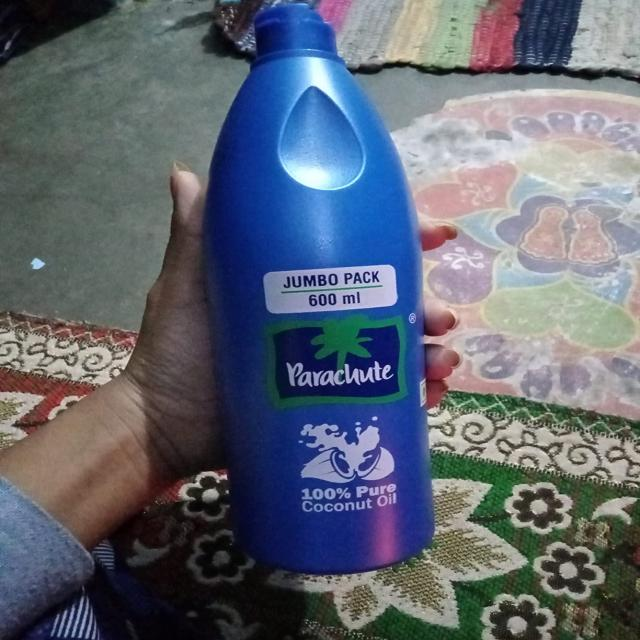parachute_oil: (173, 6, 465, 578)
